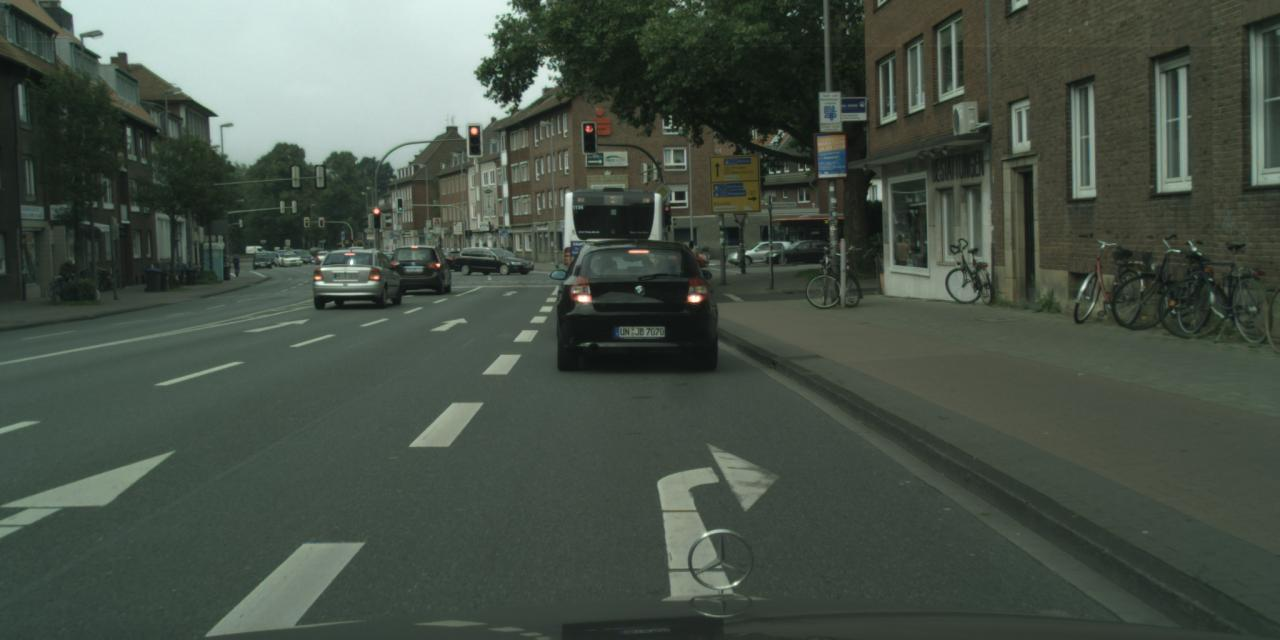ped: (232, 254, 240, 276), (504, 243, 512, 263), (498, 243, 504, 262)
